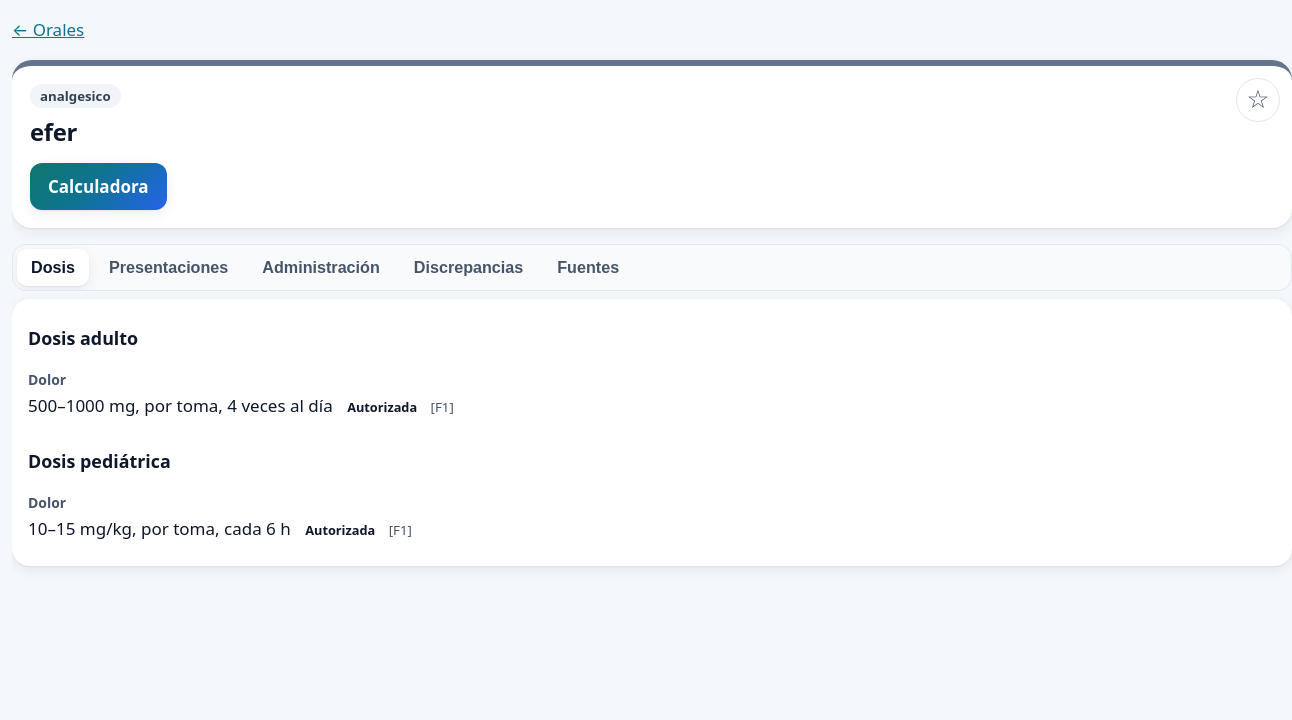
Test: FichaOral › la forma se muestra legible: «Comprimido efervescente»
The width and height of the screenshot is (1292, 720).
Click the tab "Presentaciones". click: coordinates (169, 268)
box: [95,249,242,286]
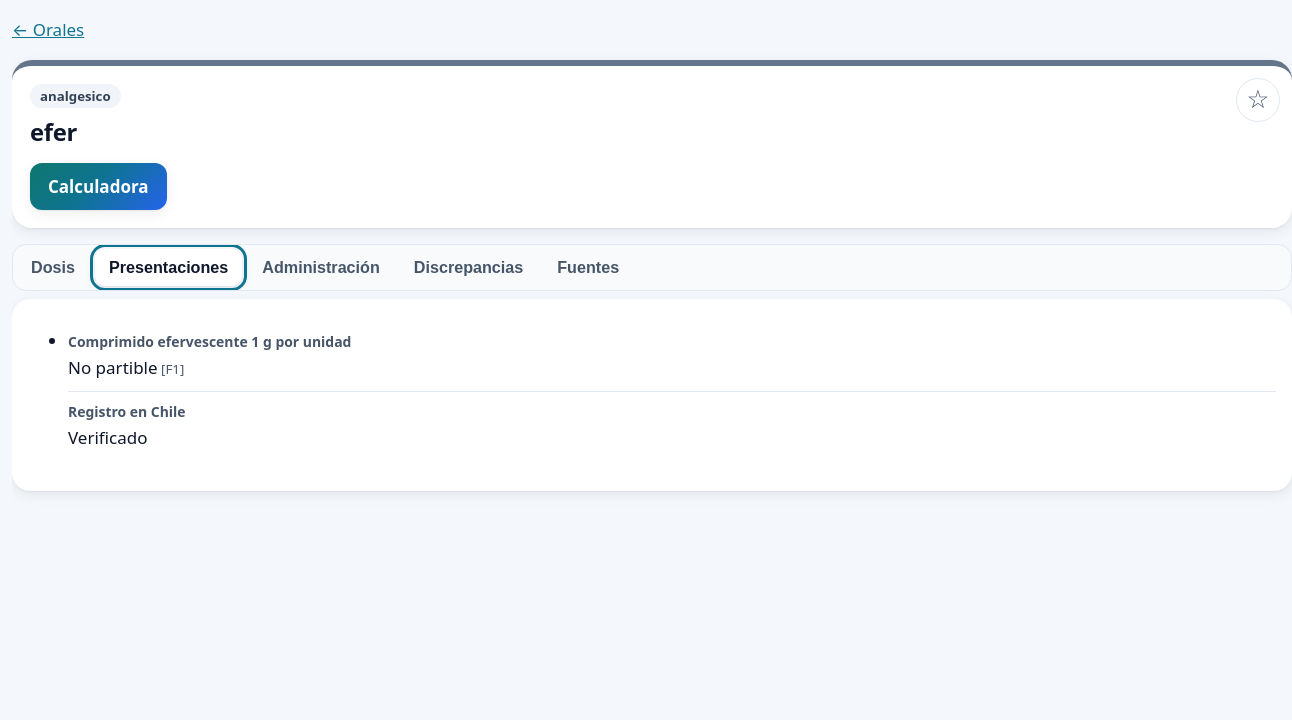
Result: the text "Comprimido efervescente 1 g por unidad" is shown at [68,332,351,351]
